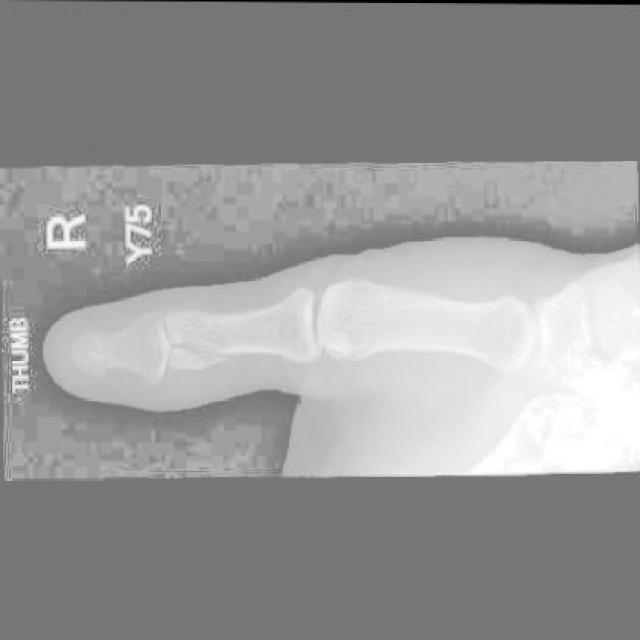Fracture: (157, 325, 230, 386)
